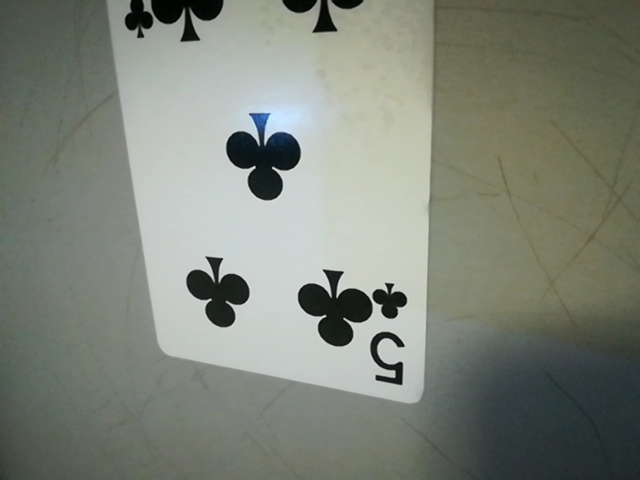mh 5: (361, 275, 422, 396)
